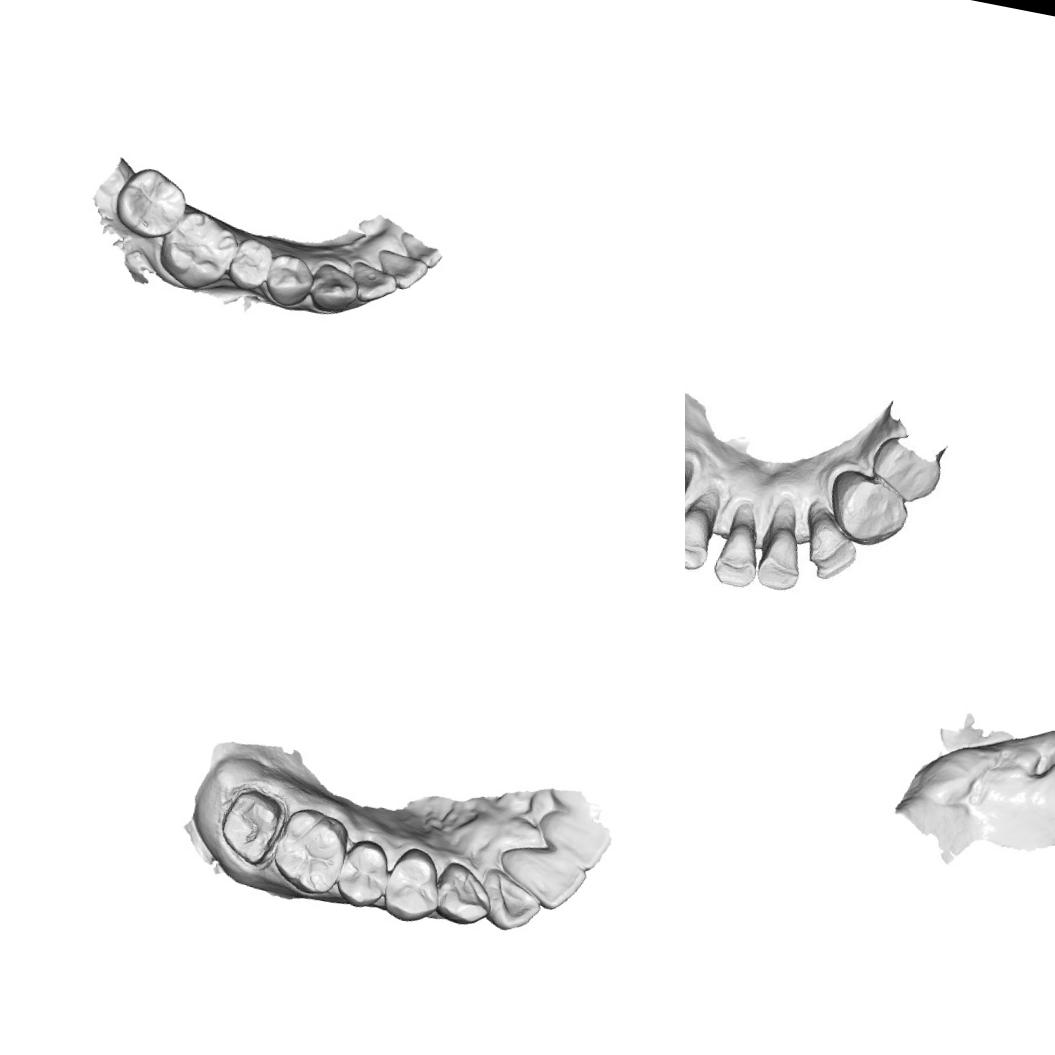canine: (428, 858, 498, 930), (306, 258, 362, 318), (1020, 732, 1055, 791)
crown: (207, 778, 292, 871), (823, 466, 914, 552)
incisor: (490, 838, 592, 916), (530, 805, 616, 876), (754, 496, 816, 594), (796, 499, 863, 580), (474, 864, 547, 936), (714, 500, 772, 588), (685, 477, 722, 570), (368, 246, 431, 294), (344, 258, 399, 308), (393, 232, 445, 270)
molar: (266, 800, 356, 900), (151, 202, 241, 297), (108, 161, 193, 245), (870, 422, 950, 506)
premolar: (378, 842, 448, 928), (333, 832, 394, 914), (262, 249, 318, 311), (223, 232, 278, 295)
